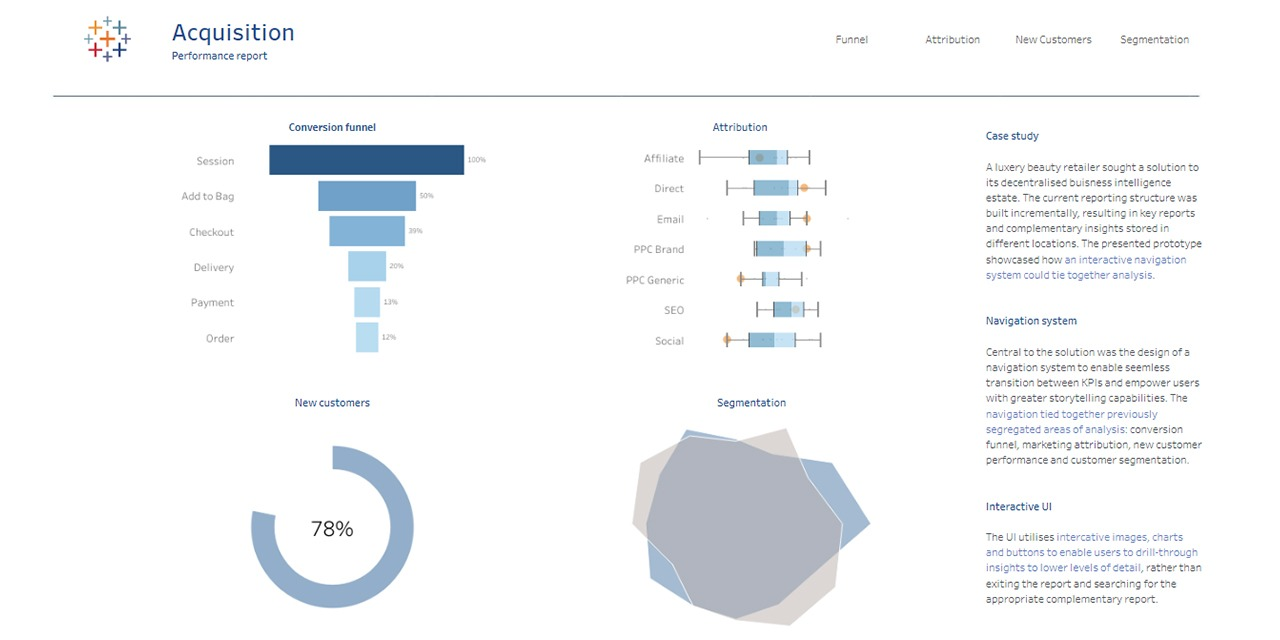

Layout of this report page (visuals, bound fields, positions):
{"tool":"tableau","page":{"name":"Home","canvas":[1366,768],"ordinal":2},"visuals":[{"type":"dashboard-object","box":[8,8,141,103]},{"type":"text","box":[149,8,738,103]},{"type":"dashboard-object","box":[887,8,117.7,103]},{"type":"dashboard-object","box":[1004.7,8,117.7,103]},{"type":"dashboard-object","box":[1122.5,8,117.7,103]},{"type":"dashboard-object","box":[1240.2,8,117.8,103]},{"type":"image","param":"Image/Tableau_page_break_blue_1.JPG","box":[8,111,1350,32]},{"type":"blank","box":[8,143,138.8,289]},{"type":"worksheet","title":"home_1","mark":"Automatic","rows":["Calculation_289074826146009089"],"cols":["date","value","value"],"box":[146.8,143,386.8,289]},{"type":"blank","box":[533.6,143,138.8,289]},{"type":"worksheet","title":"home_2","mark":"Circle","rows":["source"],"cols":["Calculation_1299288517979205636"],"box":[672.4,143,286.8,289]},{"type":"blank","box":[959.2,143,138.8,289]},{"type":"text","box":[1098,143,260,617]},{"type":"blank","box":[8,432,1090,32]},{"type":"blank","box":[8,464,139.1,296]},{"type":"worksheet","title":"home_3","mark":"Pie","rows":["Calculation_555350156249124865","Calculation_555350156249124865"],"box":[147.1,464,387.2,296]},{"type":"blank","box":[534.3,464,138.1,296]},{"type":"worksheet","title":"home_4","mark":"Polygon","box":[672.3,464,313.7,296]},{"type":"blank","box":[986,464,112,296]}]}

Visuals, with their boxes on the page's 1366x768 design canvas (x1, y1, x2, y2). These are canvas units, not pixel positions in the 1280x640 screenshot, which may show the page scaled, cropped or inside an application window:
dashboard-object: <bbox>8, 8, 149, 111</bbox>
text: <bbox>149, 8, 887, 111</bbox>
dashboard-object: <bbox>887, 8, 1005, 111</bbox>
dashboard-object: <bbox>1005, 8, 1122, 111</bbox>
dashboard-object: <bbox>1122, 8, 1240, 111</bbox>
dashboard-object: <bbox>1240, 8, 1358, 111</bbox>
image: <bbox>8, 111, 1358, 143</bbox>
blank: <bbox>8, 143, 147, 432</bbox>
"home_1" worksheet: <bbox>147, 143, 534, 432</bbox>
blank: <bbox>534, 143, 672, 432</bbox>
"home_2" worksheet (Circle marks): <bbox>672, 143, 959, 432</bbox>
blank: <bbox>959, 143, 1098, 432</bbox>
text: <bbox>1098, 143, 1358, 760</bbox>
blank: <bbox>8, 432, 1098, 464</bbox>
blank: <bbox>8, 464, 147, 760</bbox>
"home_3" worksheet (Pie marks): <bbox>147, 464, 534, 760</bbox>
blank: <bbox>534, 464, 672, 760</bbox>
"home_4" worksheet (Polygon marks): <bbox>672, 464, 986, 760</bbox>
blank: <bbox>986, 464, 1098, 760</bbox>
